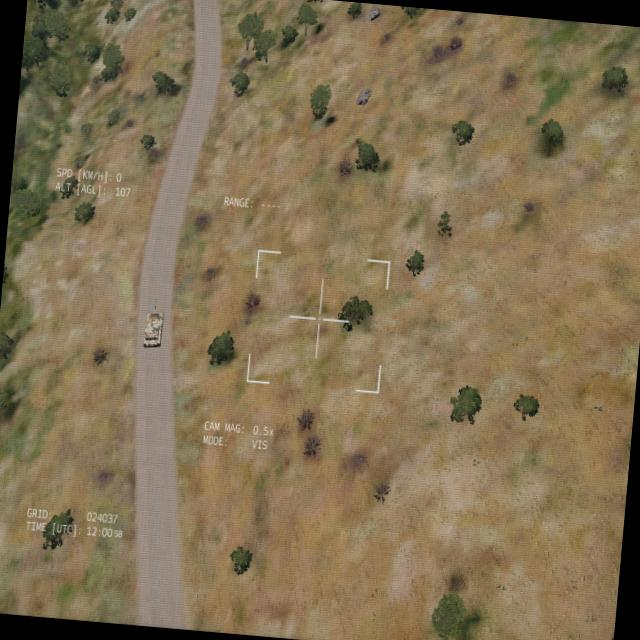tank: (141, 296, 164, 349)
